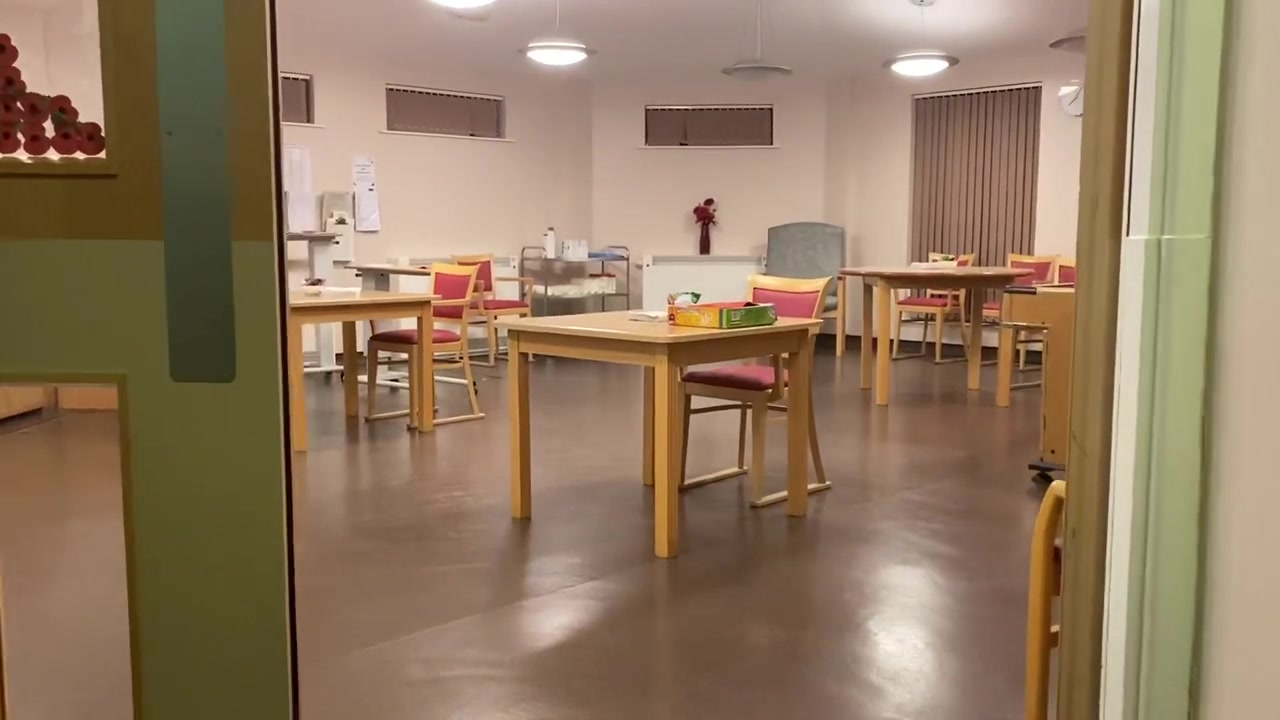chair: (679, 274, 833, 507), (364, 262, 485, 430), (766, 222, 848, 356), (450, 253, 535, 367), (892, 252, 975, 364), (981, 253, 1055, 372)
table: (491, 306, 822, 553), (837, 266, 1036, 405), (287, 287, 442, 452)
utility_cart: (519, 245, 629, 317)
